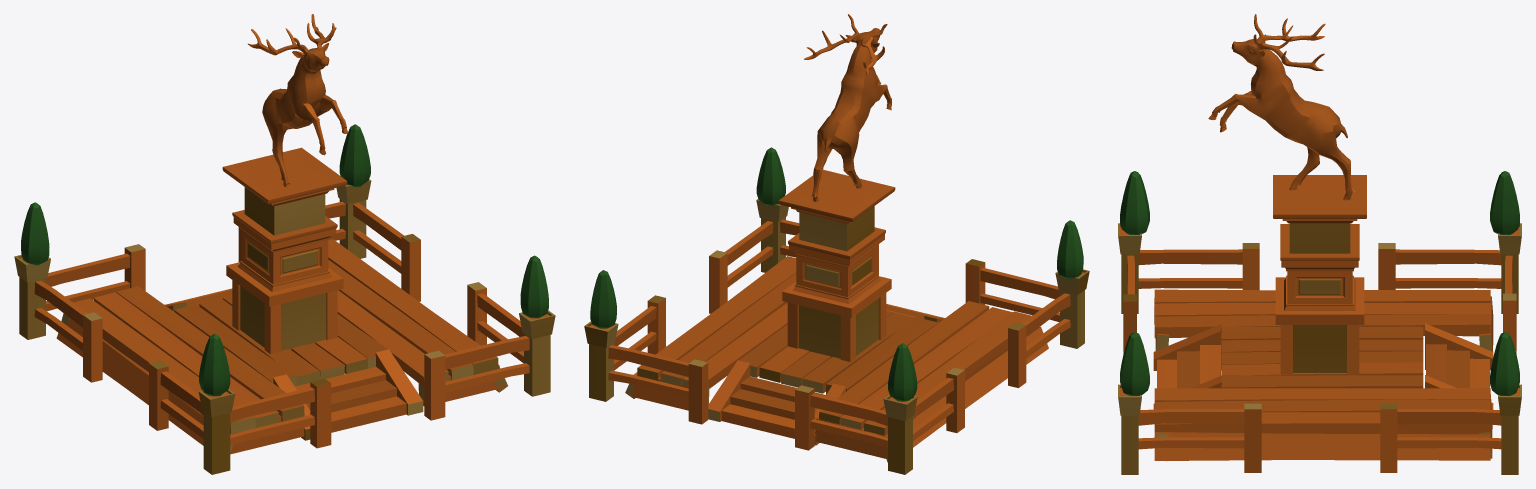
File: TownCenter1Age.glb
3 renders of one model, left to right at view 1: azimuth 30°, elevation 25°; view 2: azimuth 150°, elevation 25°; view 3: azimuth 270°, elevation 25°, orthographic. The views are drawn at different scales.
Visible parts, largest first — view 1: TownCenter_FirstAge_Level3; view 2: TownCenter_FirstAge_Level3; view 3: TownCenter_FirstAge_Level3.
Boxes of the visible parts, bbox=[...] form: TownCenter_FirstAge_Level3: bbox=[14, 14, 555, 474]; TownCenter_FirstAge_Level3: bbox=[584, 14, 1089, 474]; TownCenter_FirstAge_Level3: bbox=[1118, 14, 1521, 474].
Size of the model in its own units: 3.51 by 3.48 by 3.44.
1 material, 1 textured.
